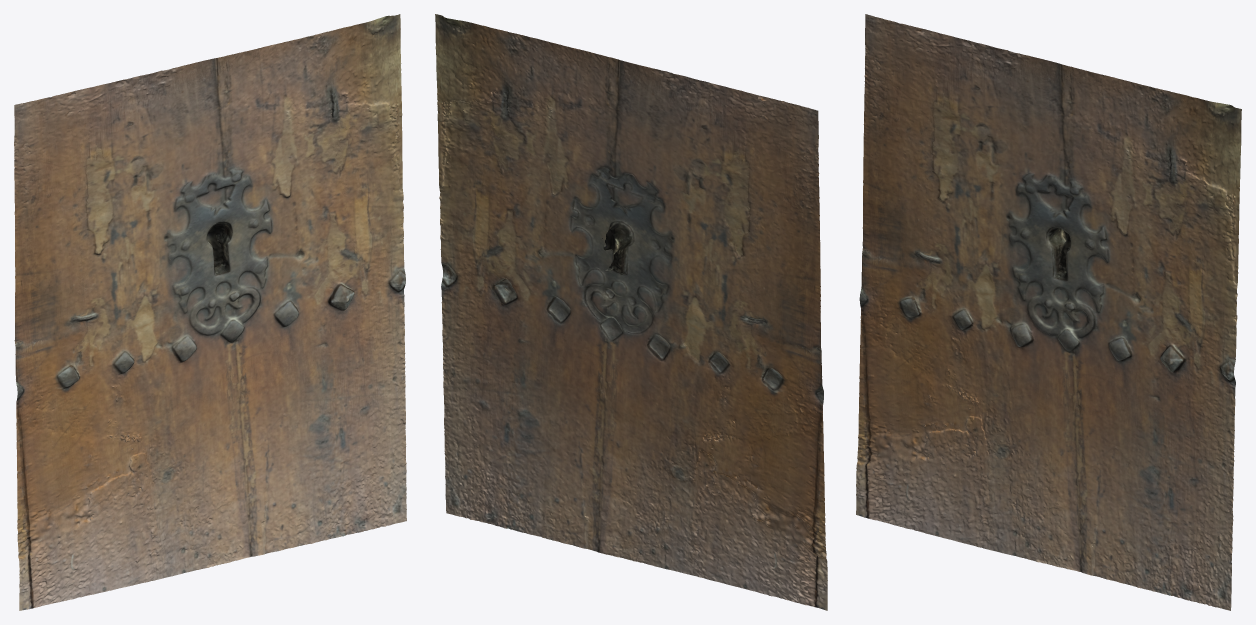
File: ojo_de_cerradura.glb
3 renders of one model, left to right at view 1: azimuth 30°, elevation 25°; view 2: azimuth 150°, elevation 25°; view 3: azimuth 330°, elevation 25°, orthographic.
Visible parts, largest first — view 1: cerraja_2; view 2: cerraja_2; view 3: cerraja_2.
Part boxes in pixels (bbox=[...]): cerraja_2: bbox=[14, 14, 406, 610]; cerraja_2: bbox=[435, 14, 827, 610]; cerraja_2: bbox=[856, 14, 1241, 610].
Bounding box in the file's own units: 4.69 × 5.82 × 0.4078.
Materials: 1 (1 with a texture image).
